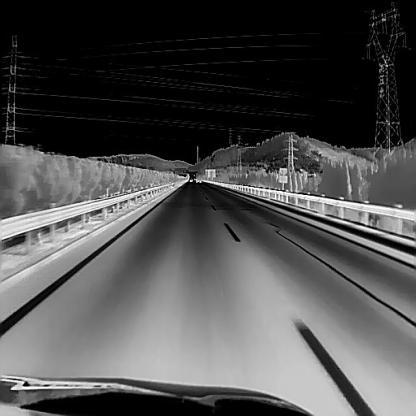car: (196, 171, 201, 182)
